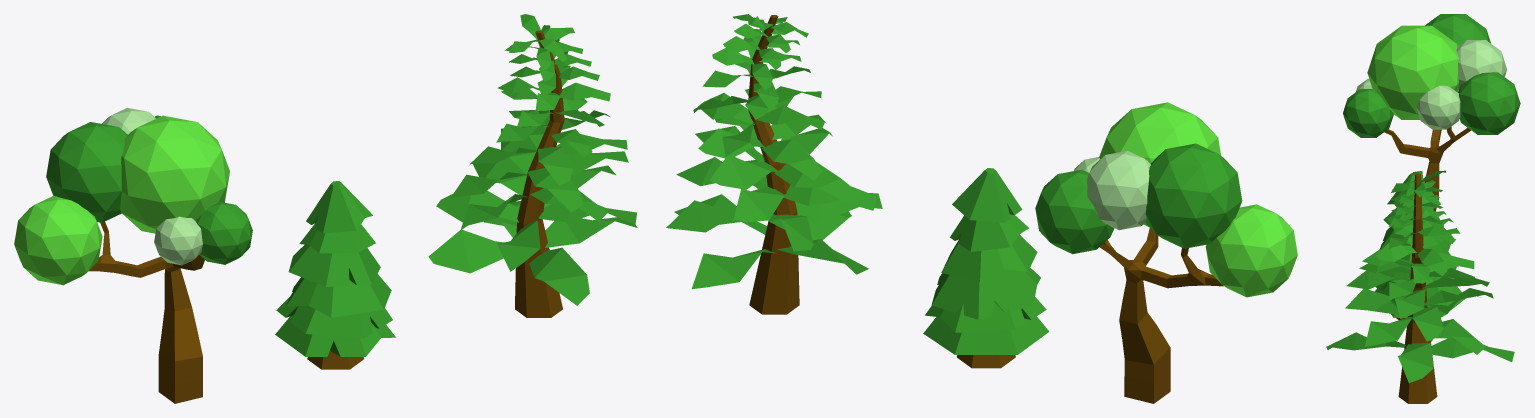
Rendered from Low Poly Trees.fbx.
3 renders of one model, left to right at view 1: azimuth 30°, elevation 25°; view 2: azimuth 150°, elevation 25°; view 3: azimuth 270°, elevation 25°, orthographic. The views are drawn at different scales.
Parts seen in each view (by area): view 1: Tree01, Tree03, Tree02, Icosphere.005; view 2: Tree01, Tree03, Tree02, Icosphere.005; view 3: Tree03, Tree01, Tree02, Icosphere.005.
Boxes of the visible parts, x1=… form: Tree01: x1=14, y1=115, x2=252, y2=403; Tree03: x1=428, y1=14, x2=637, y2=317; Tree02: x1=275, y1=181, x2=395, y2=369; Icosphere.005: x1=102, y1=107, x2=155, y2=134; Tree01: x1=1035, y1=102, x2=1297, y2=403; Tree03: x1=666, y1=14, x2=882, y2=314; Tree02: x1=923, y1=168, x2=1049, y2=368; Icosphere.005: x1=1086, y1=150, x2=1150, y2=230; Tree03: x1=1326, y1=170, x2=1514, y2=403; Tree01: x1=1343, y1=14, x2=1520, y2=211; Tree02: x1=1375, y1=173, x2=1465, y2=319; Icosphere.005: x1=1456, y1=40, x2=1507, y2=90.
Size of the model in its own units: 568 by 257 by 199.
